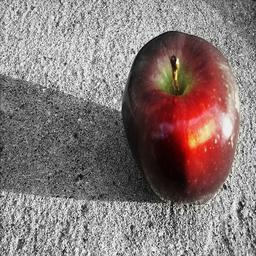apple: (121, 31, 240, 202)
